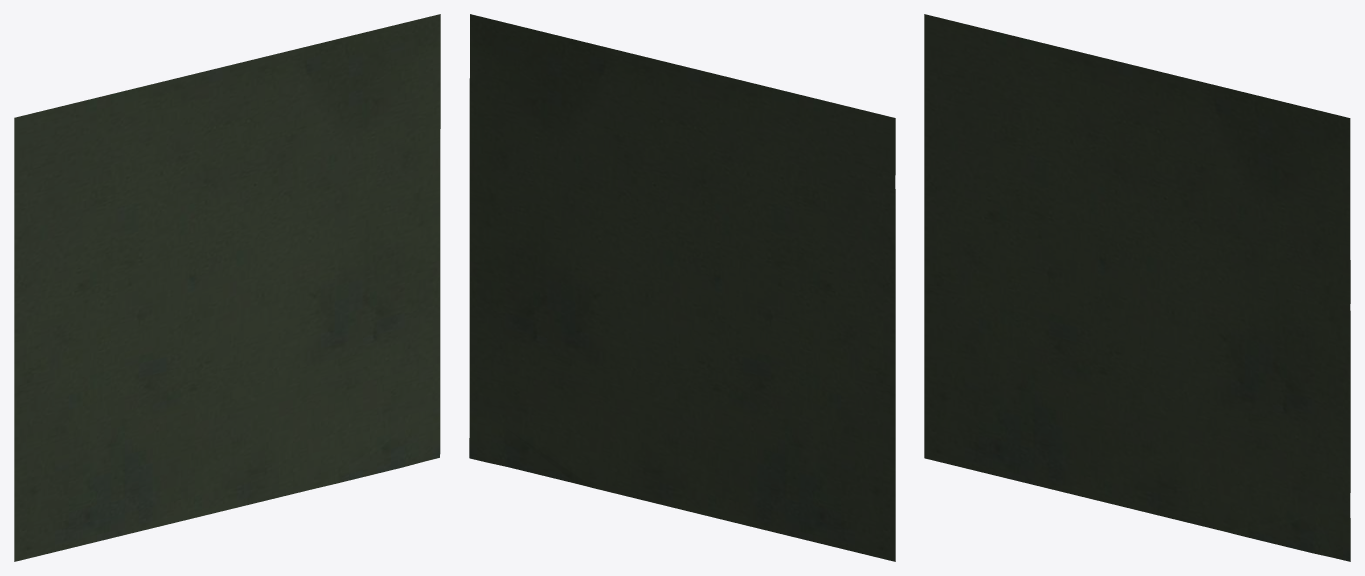
File: Tile_+032_+024_L20_0003220.obj
3 renders of one model, left to right at view 1: azimuth 30°, elevation 25°; view 2: azimuth 150°, elevation 25°; view 3: azimuth 330°, elevation 25°, orthographic.
Bounding box in the file's own units: 31.5 × 31.38 × 0.0839.
Materials: 1 (1 with a texture image).
